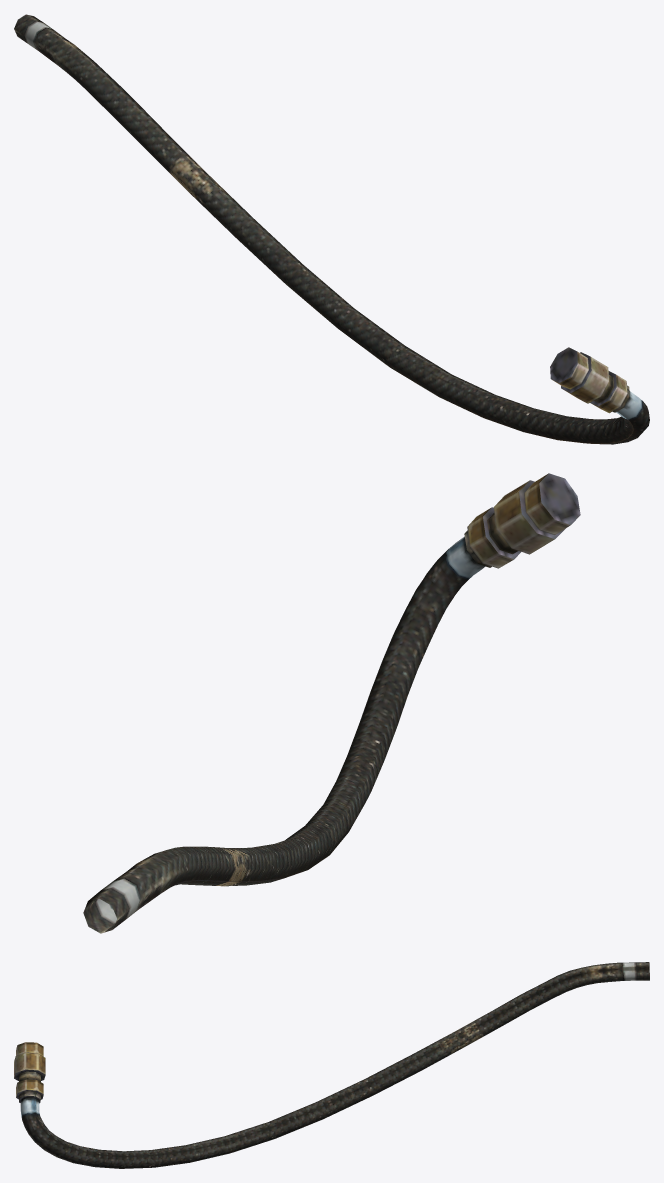
The model's file is mag.obj.
3 renders of one model, top to bottom at view 1: azimuth 30°, elevation 25°; view 2: azimuth 150°, elevation 25°; view 3: azimuth 270°, elevation 25°, orthographic. The views are drawn at different scales.
Visible parts, largest first — view 1: wpn34_ognemet_01; view 2: wpn34_ognemet_01; view 3: wpn34_ognemet_01.
Part boxes in pixels (<box>): wpn34_ognemet_01: <box>14,14,649,444</box>; wpn34_ognemet_01: <box>83,473,580,933</box>; wpn34_ognemet_01: <box>14,962,649,1168</box>.
Size of the model in its own units: 0.1621 by 0.1485 by 0.5743.
Materials: 1 (1 with a texture image).
